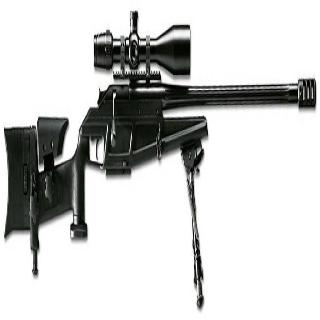gun: (5, 5, 318, 309)
